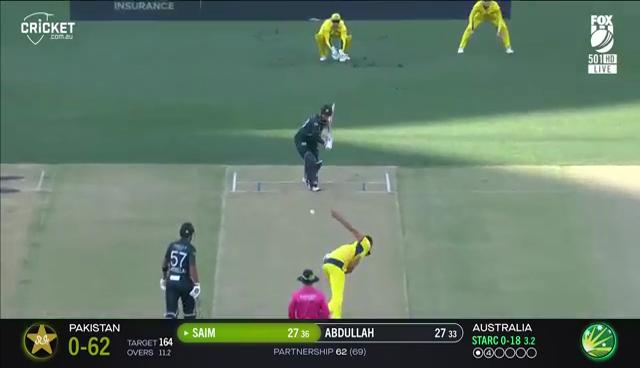ball: (299, 200, 322, 217)
